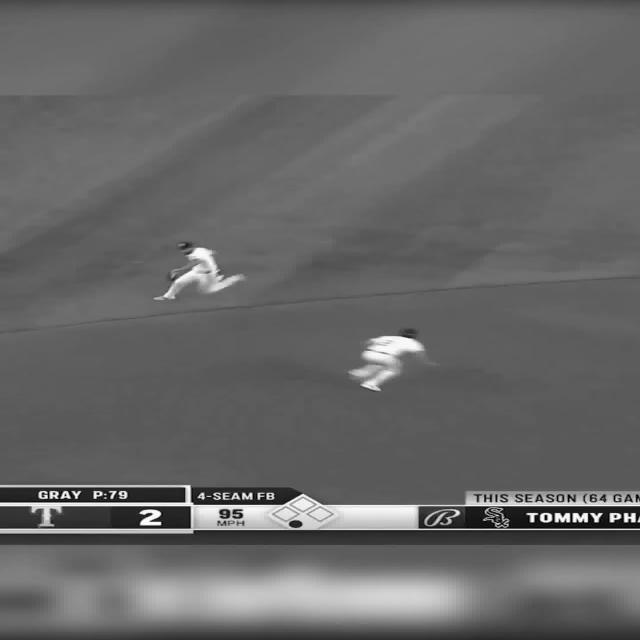baseball_glove: (167, 266, 191, 281)
shoe: (347, 368, 369, 378), (359, 382, 381, 391), (153, 296, 175, 300)
